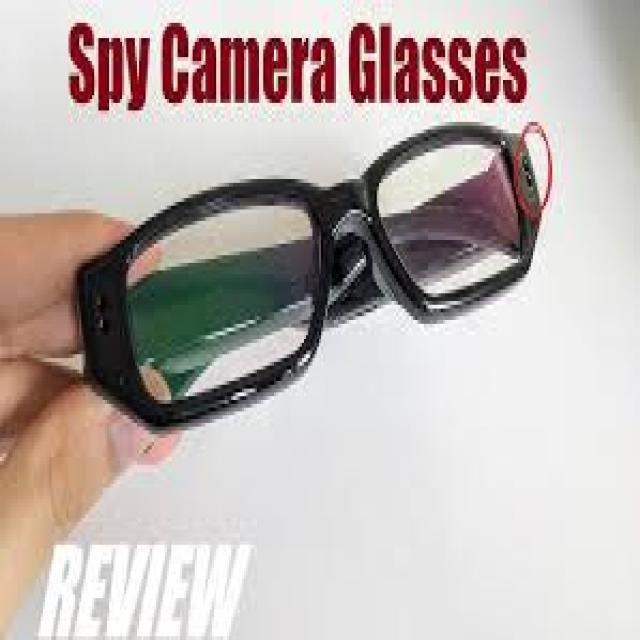hidden camera: (524, 163, 534, 187)
